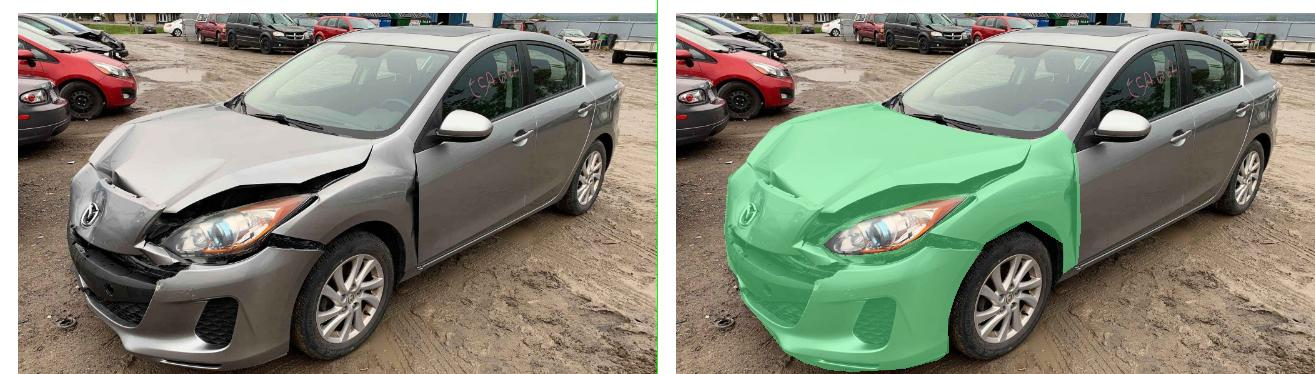Broken part: (132, 160, 656, 371), (174, 102, 751, 231), (540, 129, 845, 273)
Dent: (306, 156, 454, 207), (186, 125, 280, 176), (150, 187, 216, 243), (743, 146, 811, 177), (210, 217, 248, 238), (811, 178, 833, 211), (266, 208, 290, 226), (821, 227, 835, 248)
Missing part: (210, 283, 230, 297)
Scratch: (665, 188, 813, 210), (362, 287, 396, 301), (308, 281, 332, 292)
